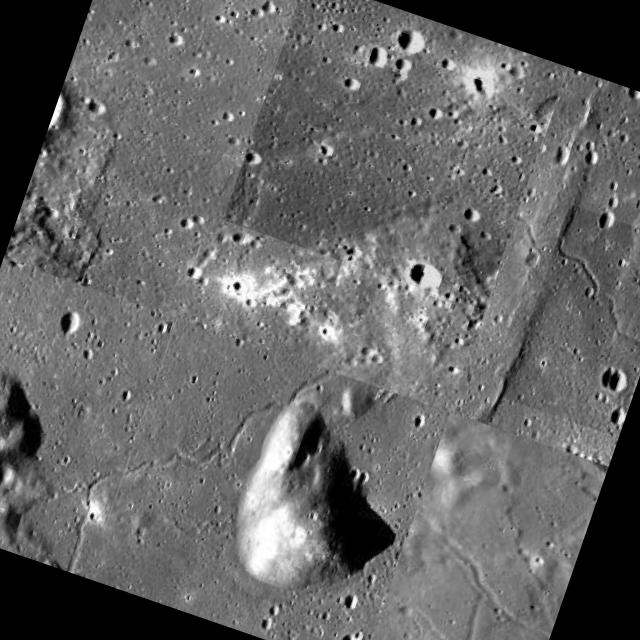rille: (14, 292, 448, 640), (222, 0, 566, 309), (503, 204, 640, 437), (479, 453, 606, 640), (506, 136, 580, 258)
